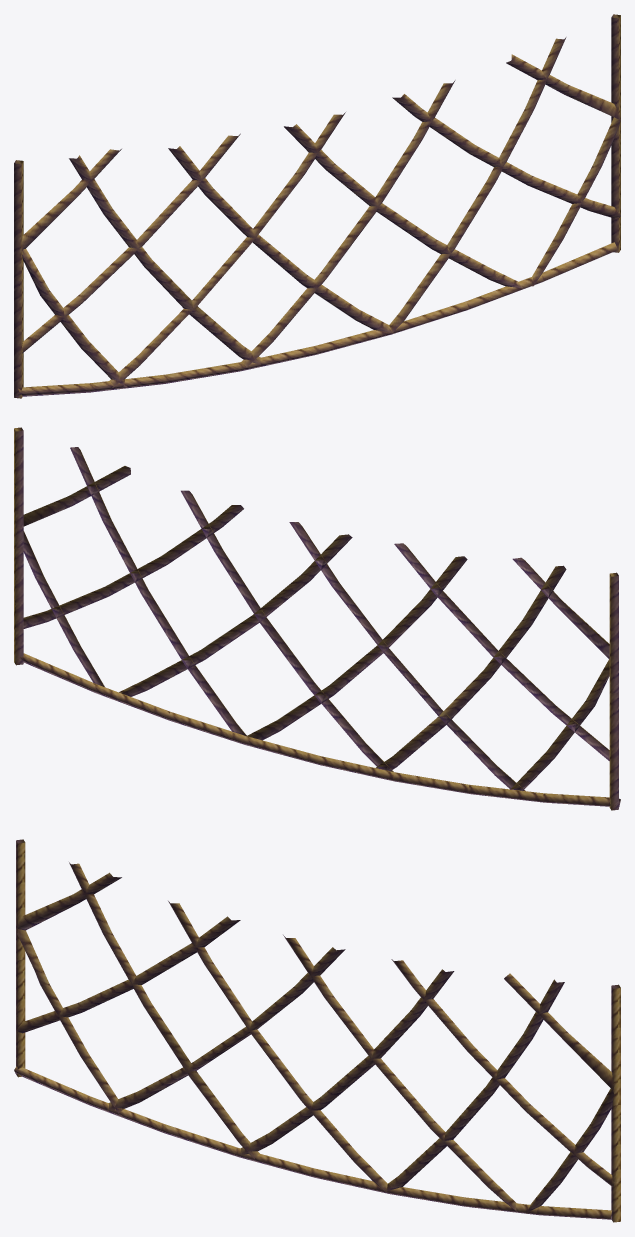
The model's file is scenes_village_climb01a.FBX.
3 renders of one model, top to bottom at view 1: azimuth 30°, elevation 25°; view 2: azimuth 150°, elevation 25°; view 3: azimuth 330°, elevation 25°, orthographic.
Visible parts, largest first — view 1: scenes_village_climb01a; view 2: scenes_village_climb01a; view 3: scenes_village_climb01a.
Boxes of the visible parts, x1,y1,x2,y2 form: scenes_village_climb01a: [14, 14, 620, 398]; scenes_village_climb01a: [14, 427, 620, 810]; scenes_village_climb01a: [14, 839, 620, 1222].
Bounding box in the file's own units: 427 × 178 × 8.
